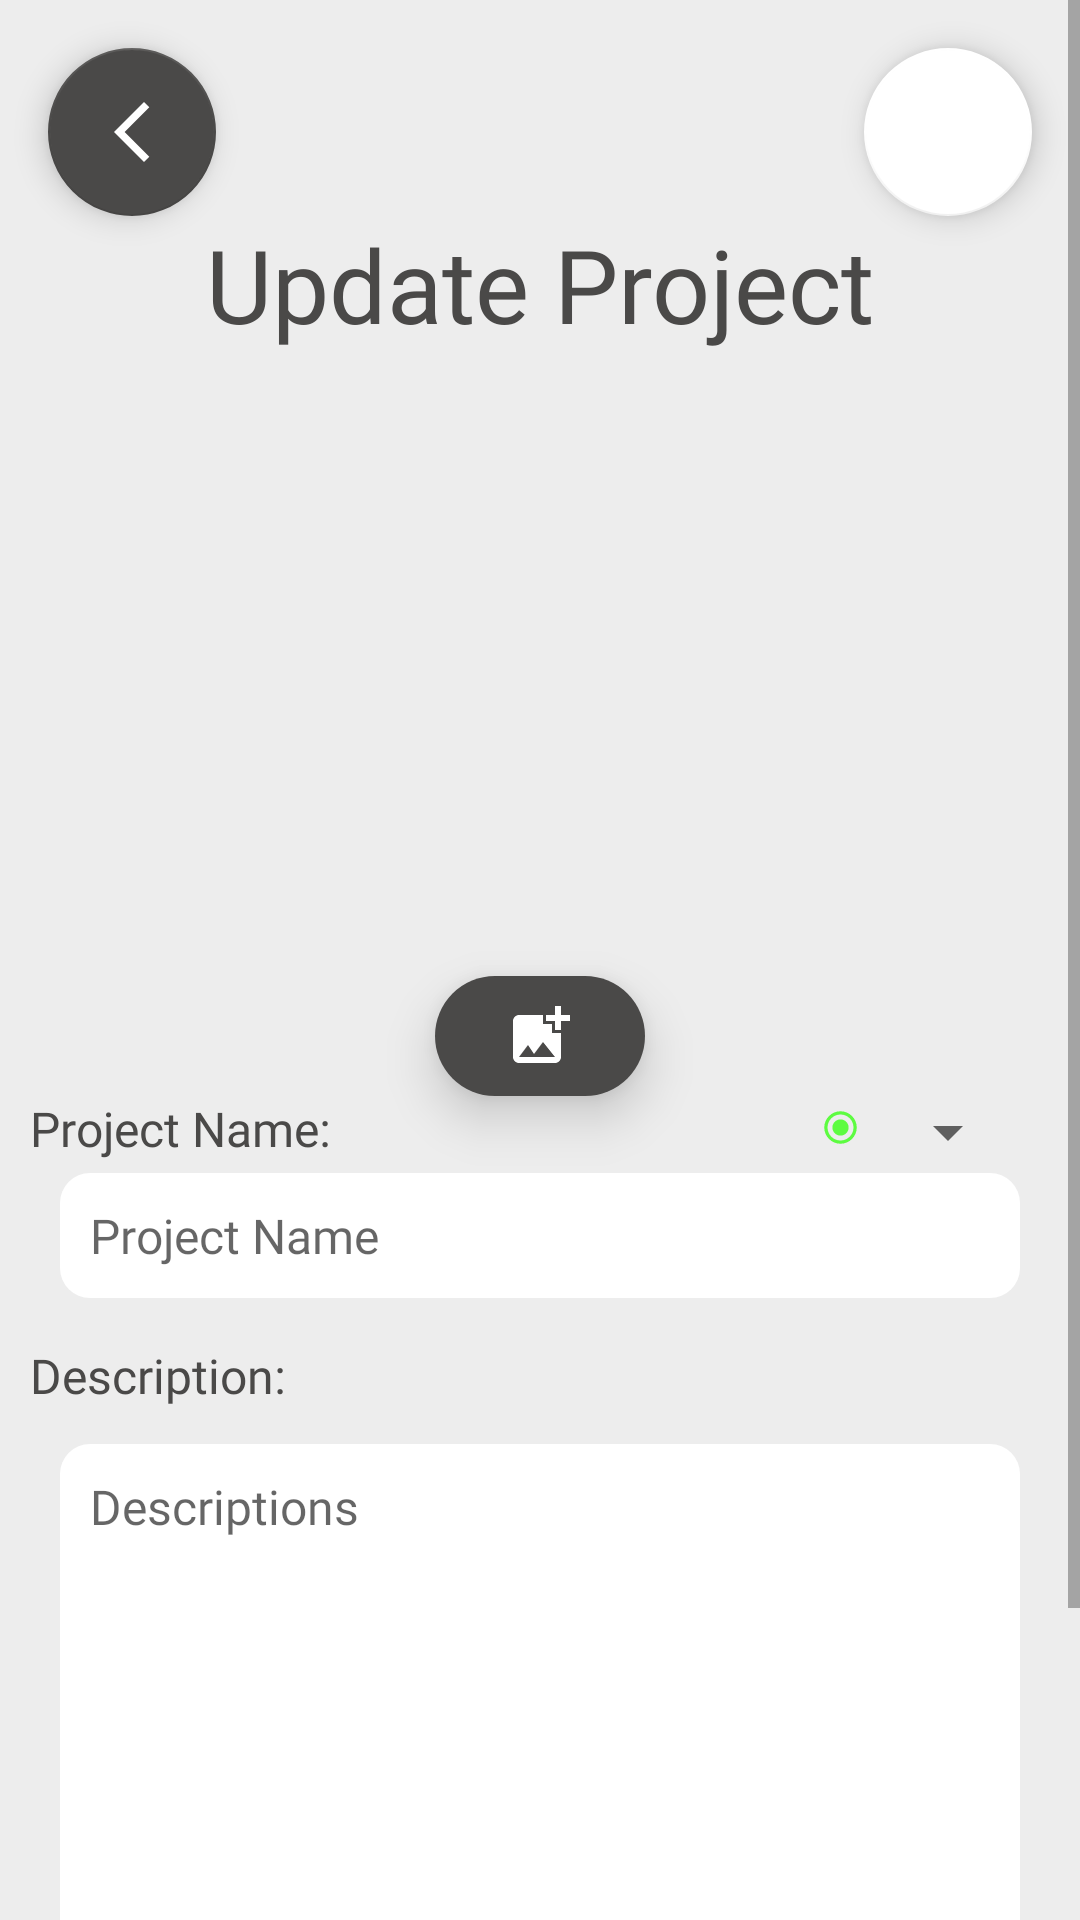

Where icons sit on this 1080w x 1920h app screen, as (x1, y1, x2, y2):
add photo alternate: (435, 976, 645, 1096)
arrow back: (48, 48, 216, 216)
project status in progress: (824, 1111, 857, 1144)
